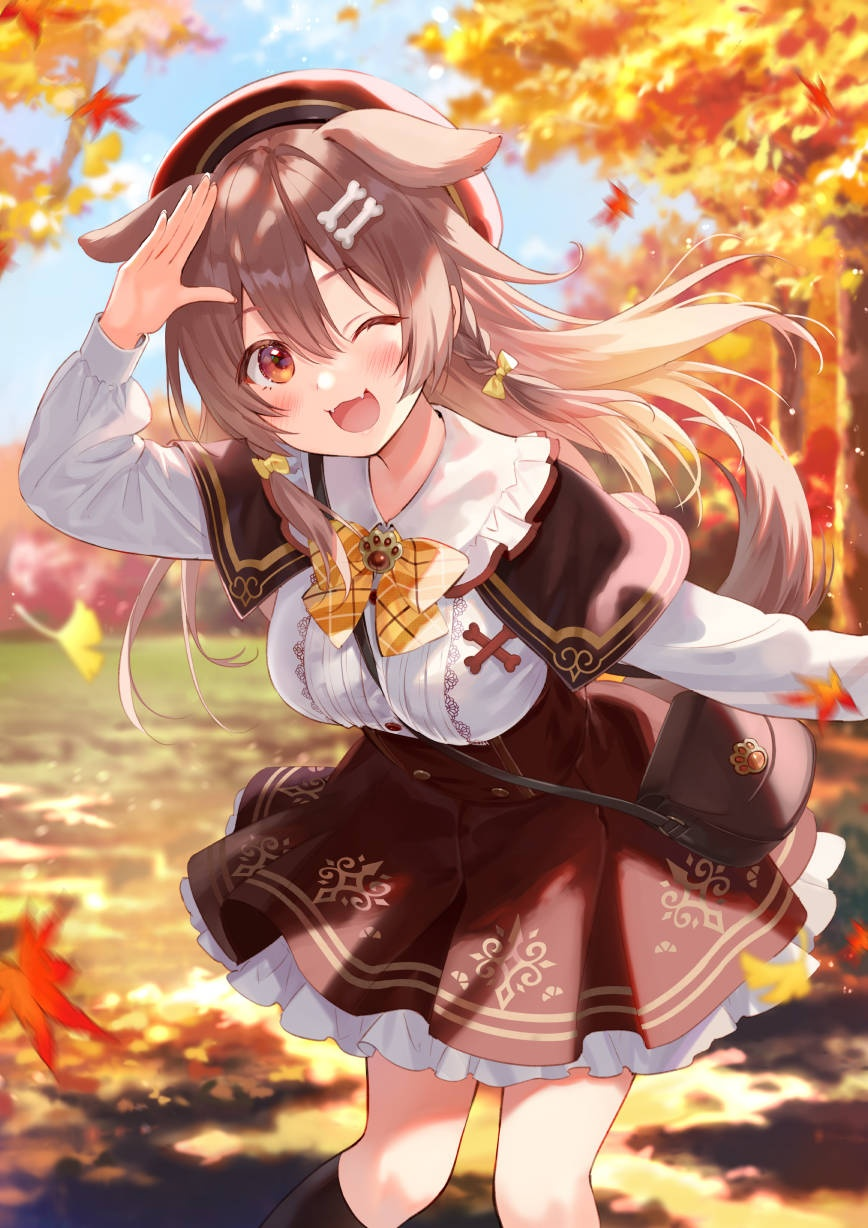纸片人正脸: (81, 62, 549, 473)
